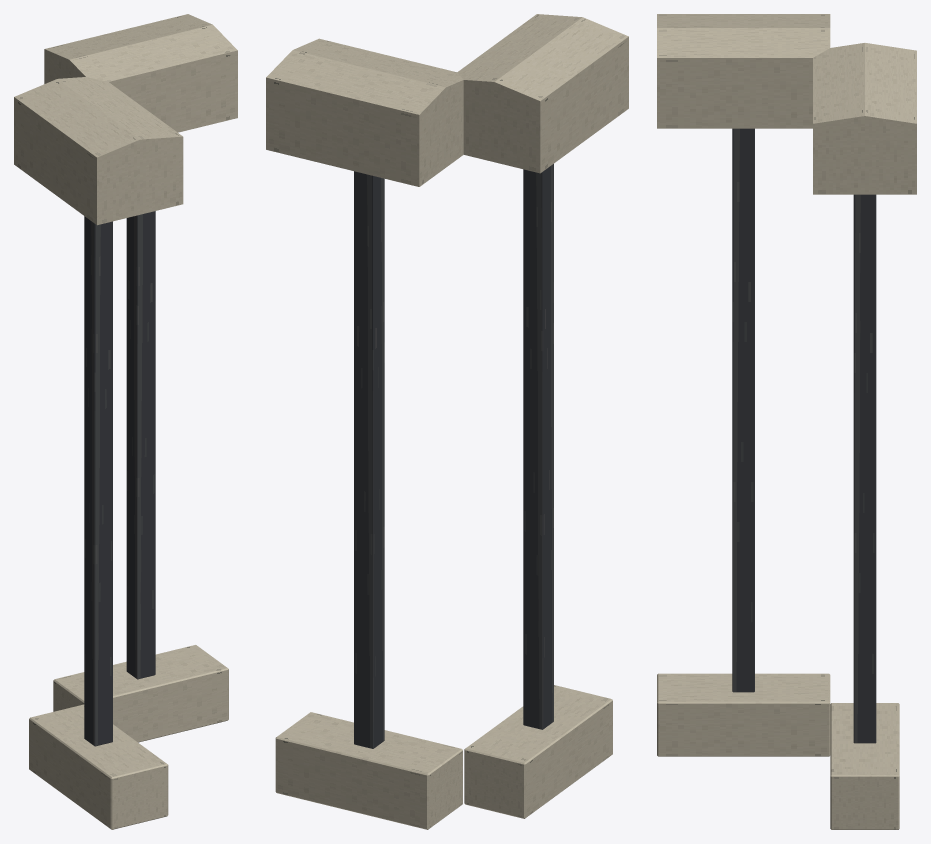
File: porch_railing_corner.glb
3 views of the same model, side by side, from view 1: azimuth 30°, elevation 25°; view 2: azimuth 150°, elevation 25°; view 3: azimuth 270°, elevation 25° (orthographic). The views are drawn at different scales.
Parts seen in each view (by area): view 1: porch_railing_corner; view 2: porch_railing_corner; view 3: porch_railing_corner.
Boxes of the visible parts, <box> form: porch_railing_corner: <box>14,14,237,829</box>; porch_railing_corner: <box>266,14,628,829</box>; porch_railing_corner: <box>657,14,916,829</box>.
Bounding box in the file's own units: 0.3 × 0.91 × 0.3.
2 materials, 2 textured.
